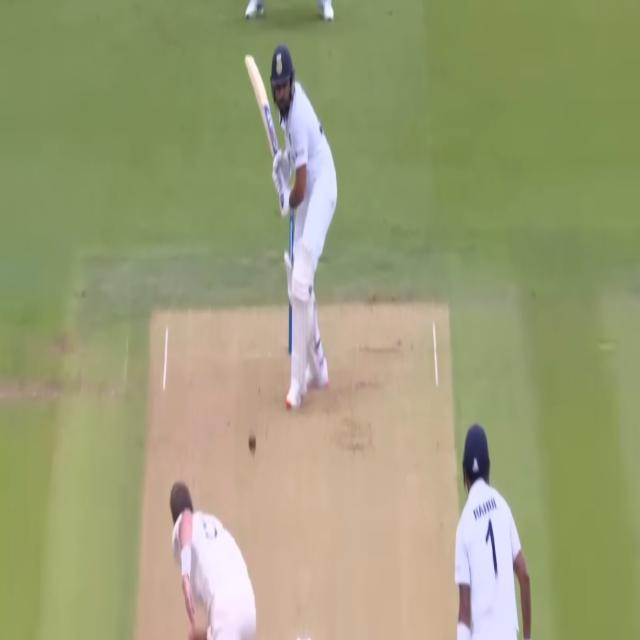ball: (245, 425, 261, 459)
